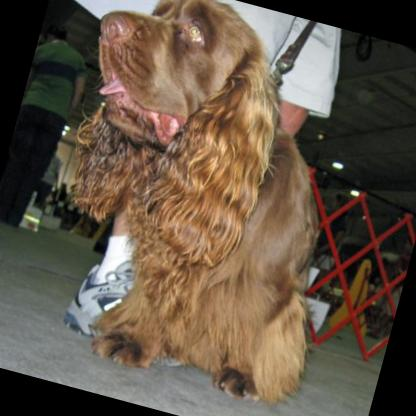Sussex_spaniel: (12, 0, 398, 415)
